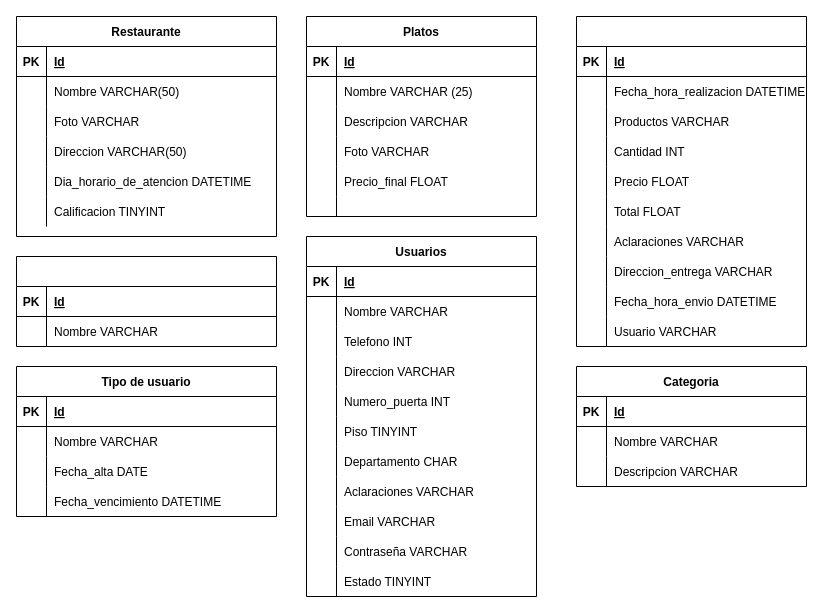
This 823x613 diagram has some shape labels left out. The box of each missing label's shape, as (x1, y1, x2, y2) in pixels:
Ingredientes: (16, 256, 276, 346)
Pedidos: (576, 16, 806, 346)
